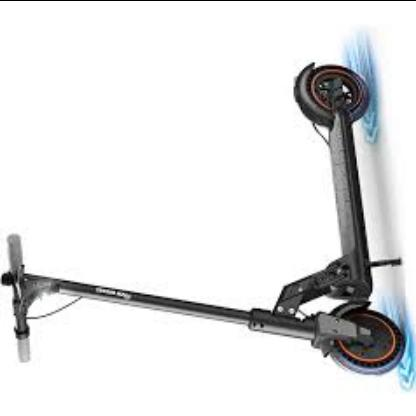bike: (0, 62, 408, 378)
